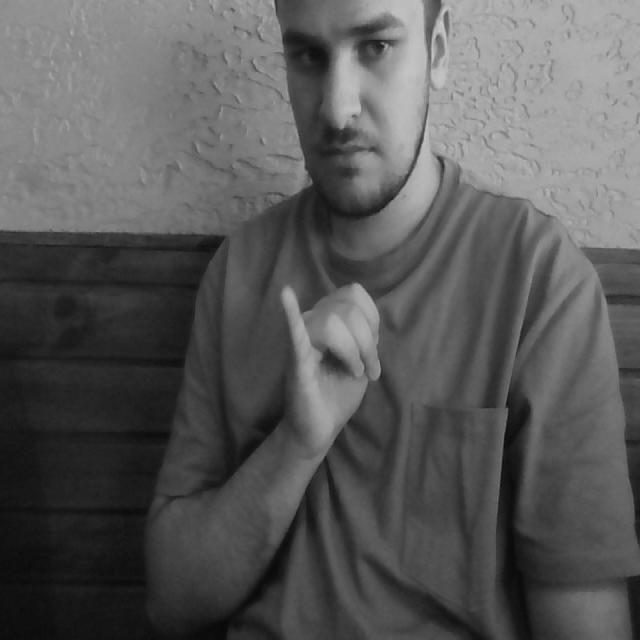kotu: (271, 267, 397, 395)
